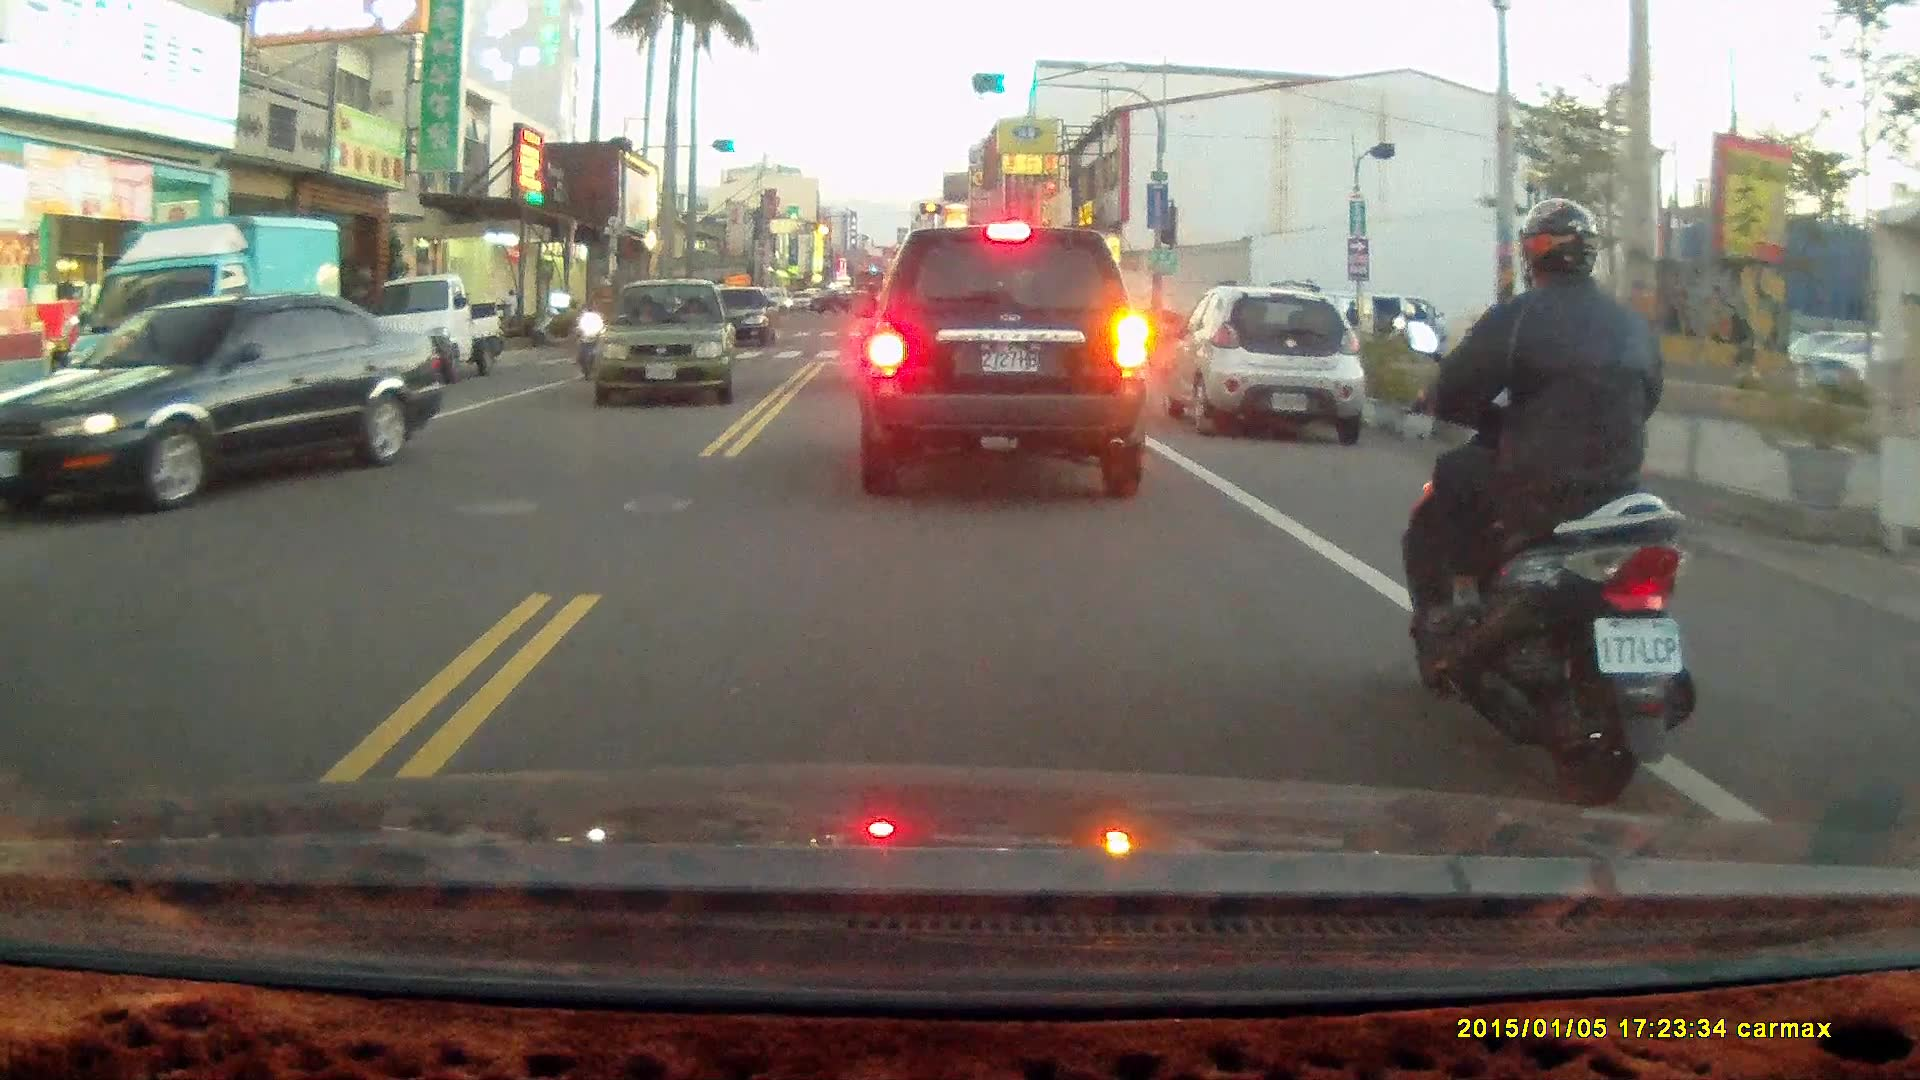rider: (1400, 194, 1702, 808), (570, 278, 619, 373)
vehicle: (1, 293, 454, 511), (856, 223, 1150, 501), (85, 214, 345, 444), (1175, 286, 1368, 444), (587, 274, 738, 410), (363, 269, 505, 382)
